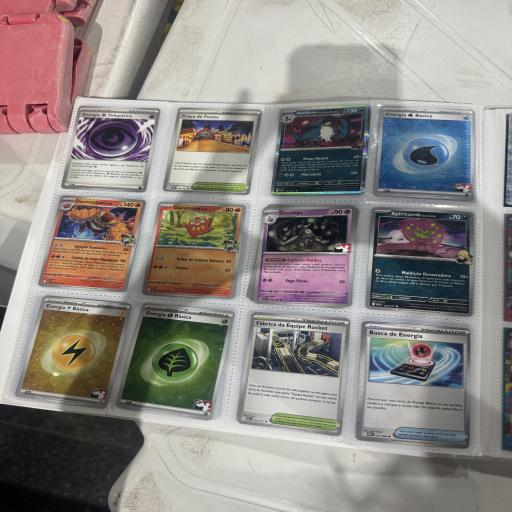card: (15, 280, 135, 421), (236, 305, 355, 436), (355, 321, 476, 448), (115, 295, 235, 422), (365, 207, 478, 317), (38, 193, 147, 293), (253, 202, 356, 307), (142, 200, 247, 300), (373, 104, 479, 201), (162, 105, 262, 196), (61, 103, 160, 194), (270, 104, 369, 194)
